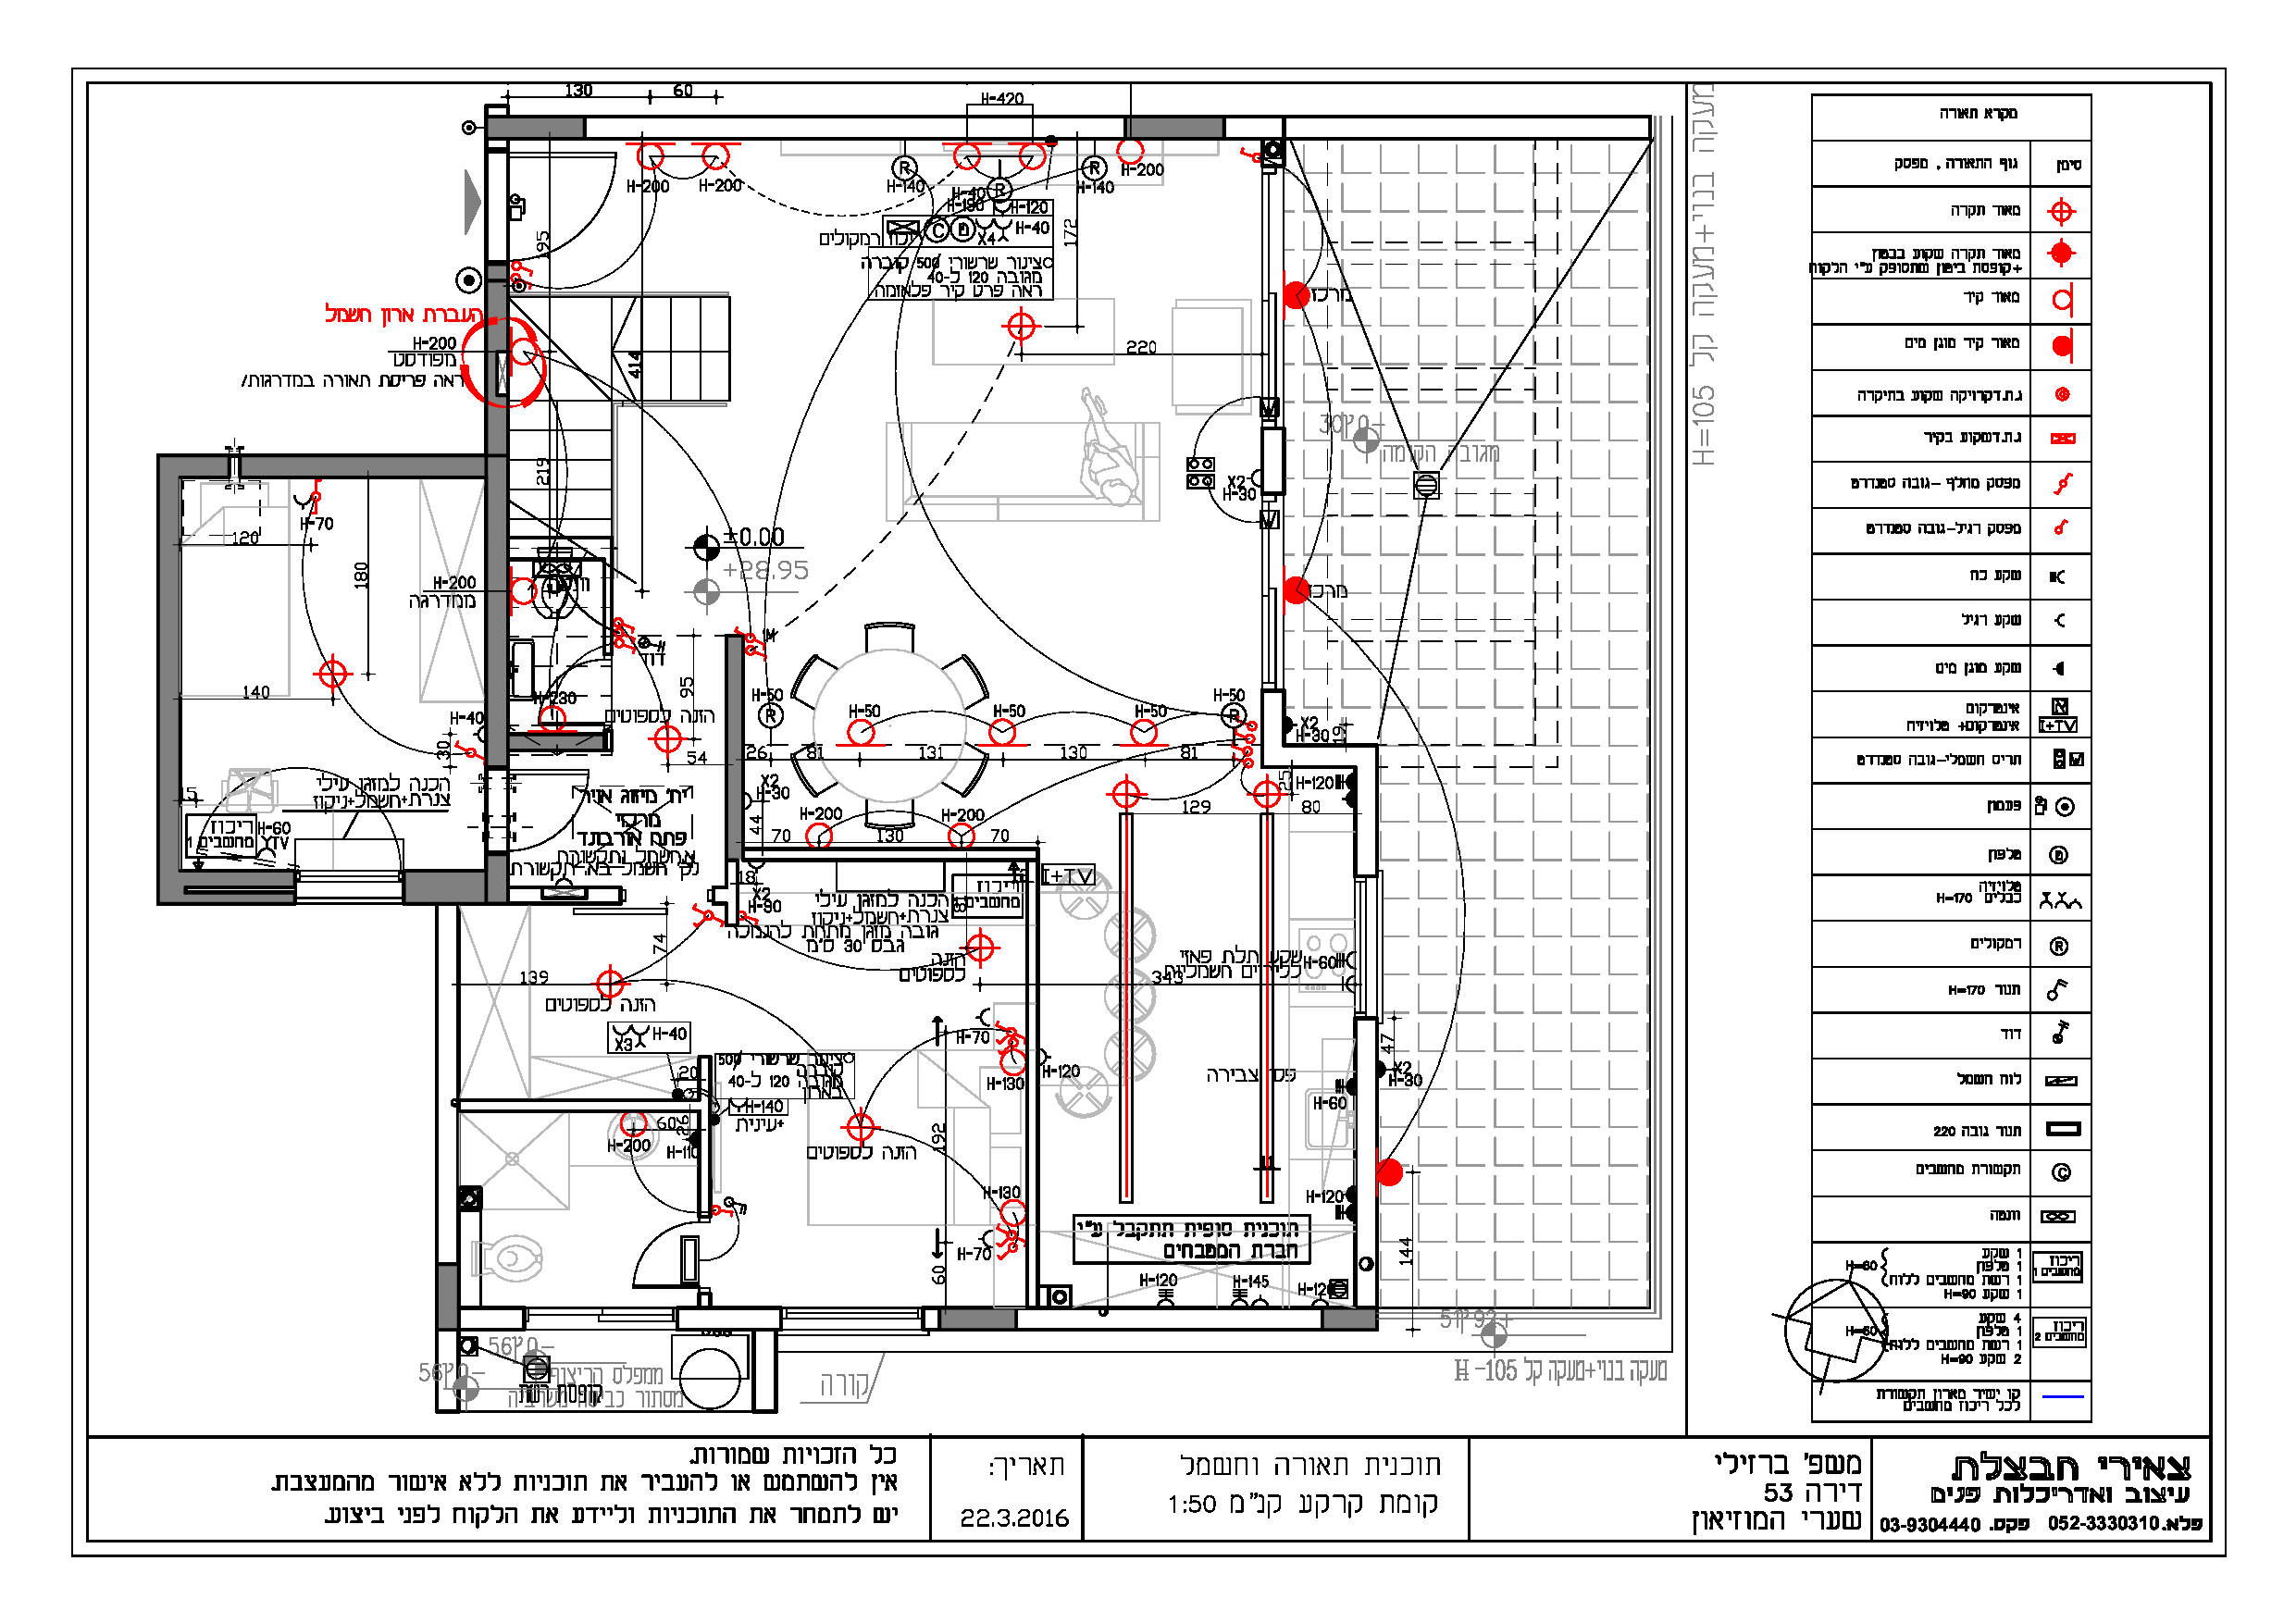door: (624, 1219, 678, 1293)
rd: (1769, 74, 2245, 1607), (60, 1421, 2296, 1616)
wall: (158, 458, 179, 901), (488, 462, 508, 766), (251, 458, 481, 476), (729, 646, 738, 847), (411, 878, 481, 899), (1130, 119, 1221, 133), (488, 123, 580, 135), (488, 857, 504, 901)
window: (778, 1298, 928, 1344), (520, 1300, 680, 1335)
